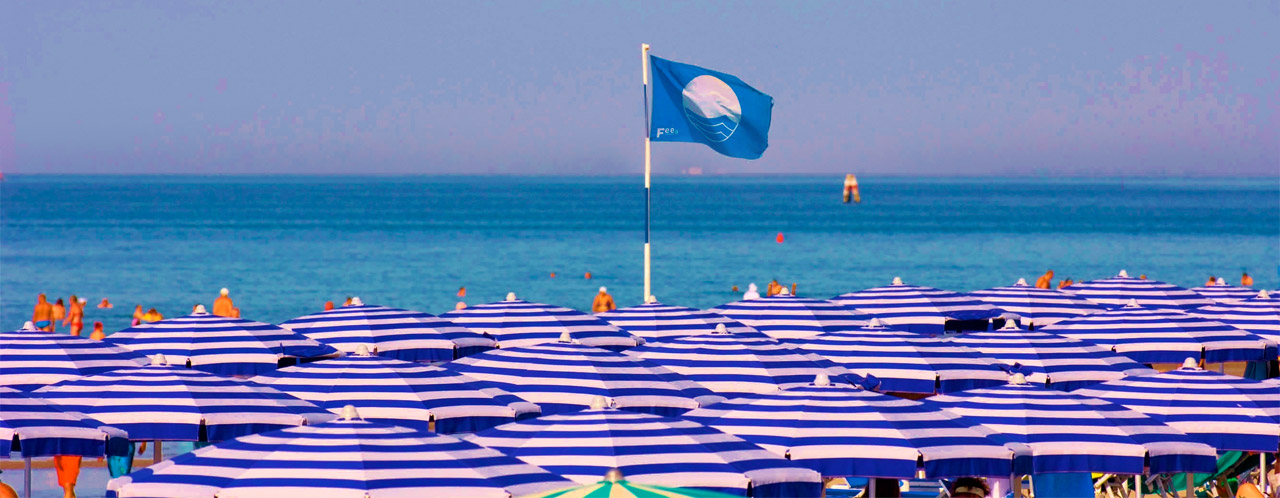Flag: (645, 53, 772, 161)
